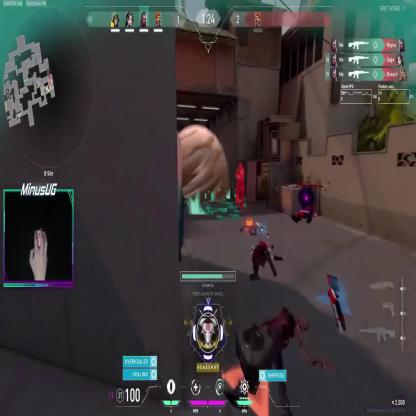enemy: (235, 161, 245, 210)
enemy_head: (238, 161, 242, 169)
